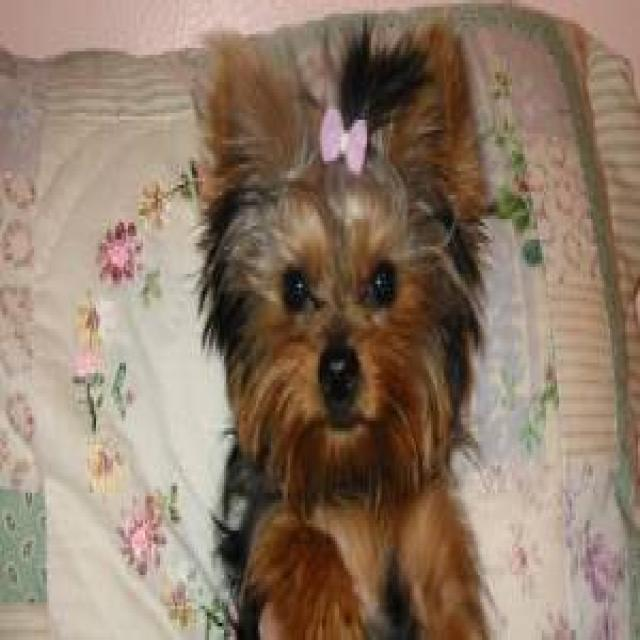dog-yorkshire_terrier: (183, 10, 510, 633)
